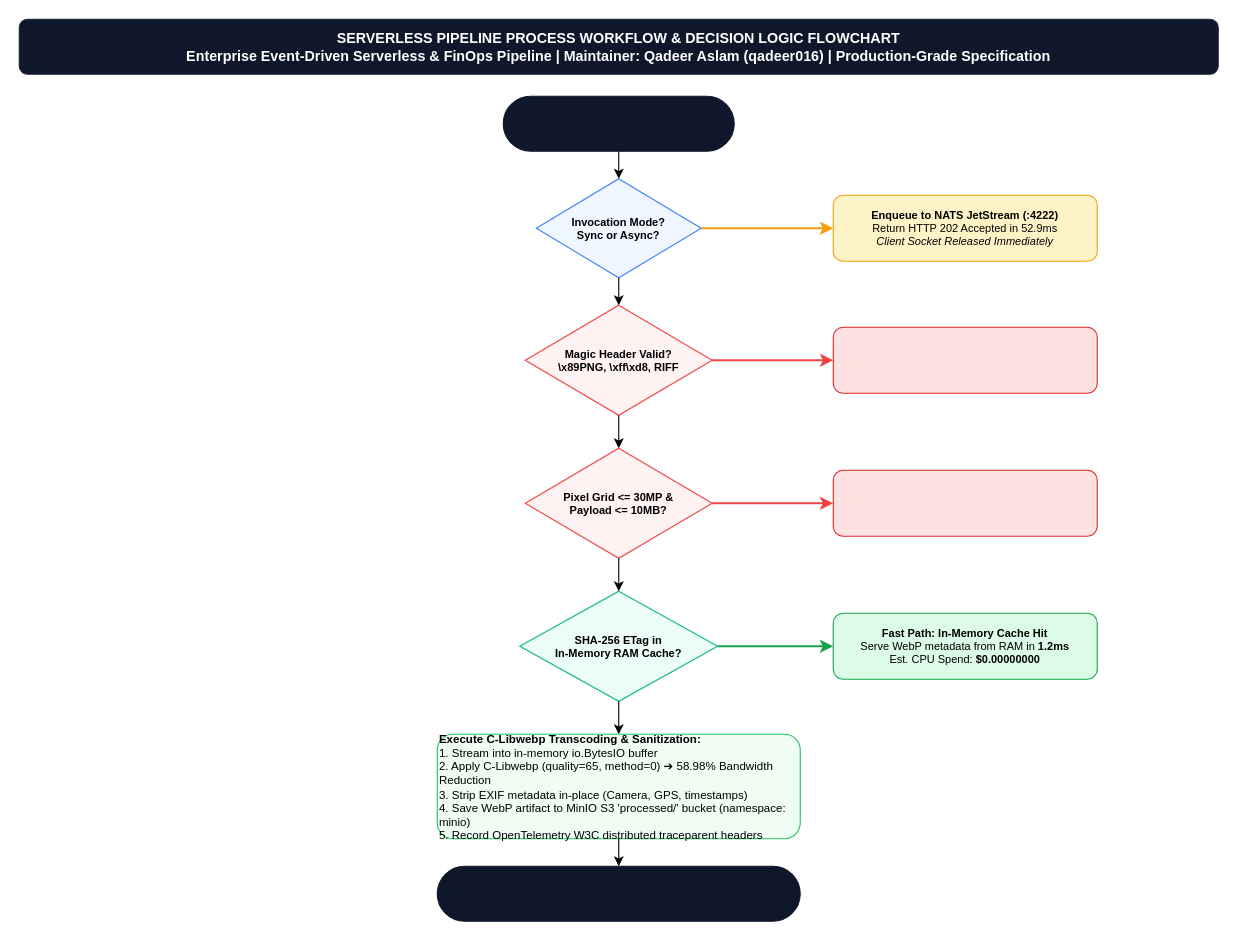
Some shapes in this 1238 by 941 pixel diagram are drawn without their labels. The shapes that lost their labels are listed below. From the top down, each one's centre as x and y in pixels, then its label:
the point at 618,123: START: Incoming Image Request Received
the point at 964,359: HTTP 422 Unprocessable Entity Reject Malicious Disguised Script
the point at 964,502: HTTP 413 Payload Too Large Block Decompression Bomb DoS
the point at 618,893: HTTP 200 OK Response Returned Telemetry JSON + WebP S3 Key (18.5ms compute)
